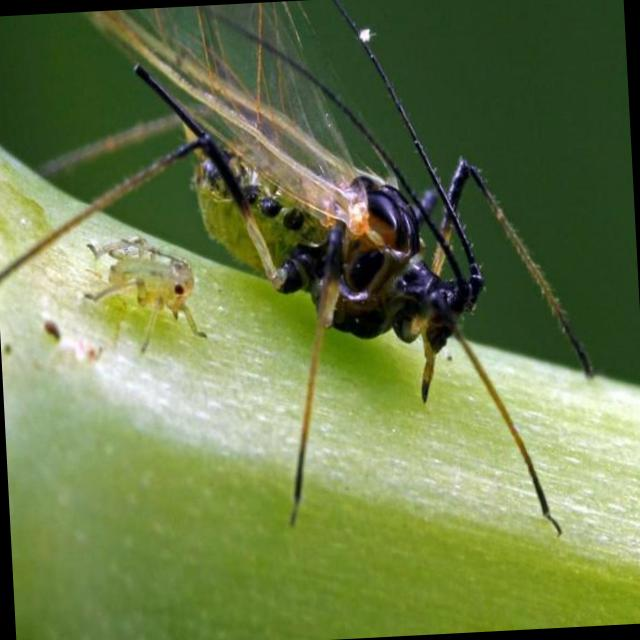aphid: (95, 3, 531, 364)
